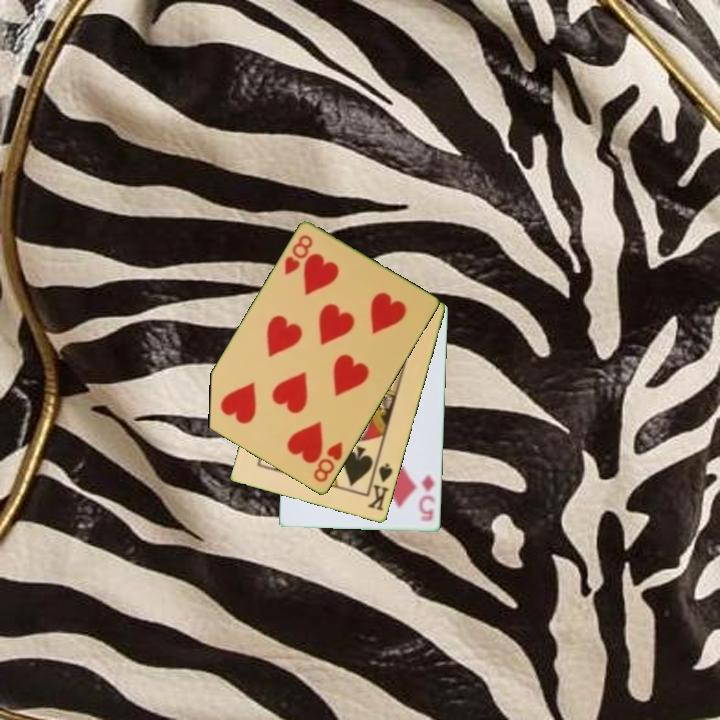5d: (416, 472, 438, 525)
8h: (310, 438, 346, 486), (281, 231, 316, 278)
Ks: (364, 458, 396, 514)
